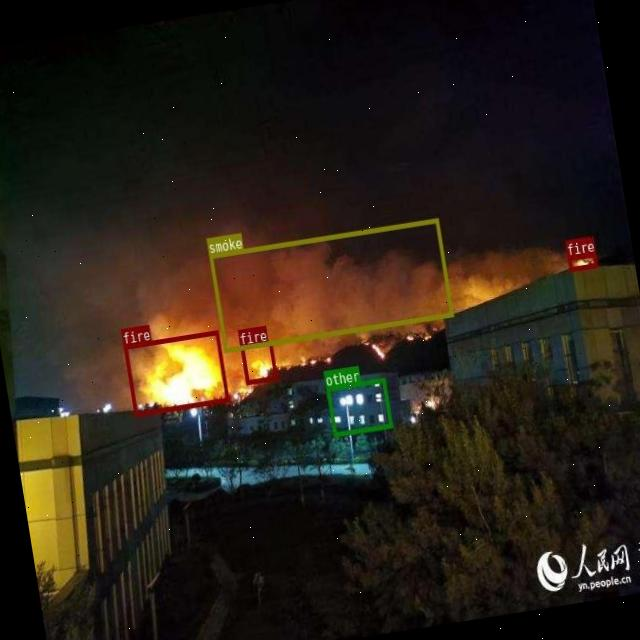fire: (124, 330, 228, 416), (240, 340, 277, 384), (567, 252, 597, 270)
smoke: (209, 218, 454, 352)
